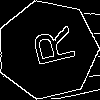R: (23, 24, 76, 71)
